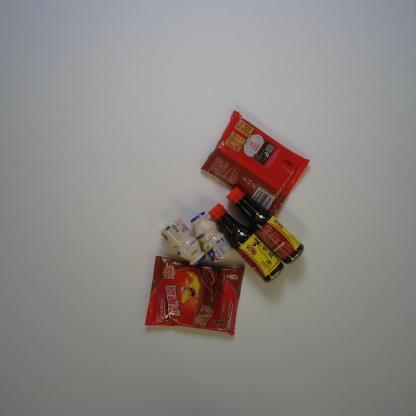Dessert: (199, 109, 311, 217), (142, 255, 246, 336)
Milk: (190, 212, 234, 266), (160, 217, 206, 268)
Seasoner: (206, 202, 286, 284), (226, 186, 306, 266)
